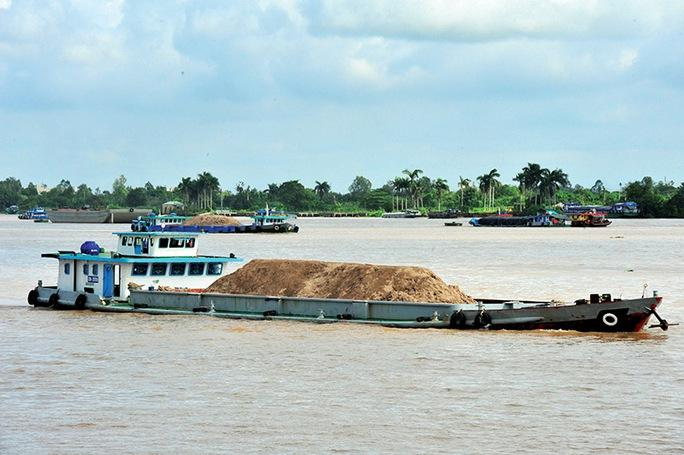Ship: (30, 236, 661, 341), (122, 206, 300, 235)
